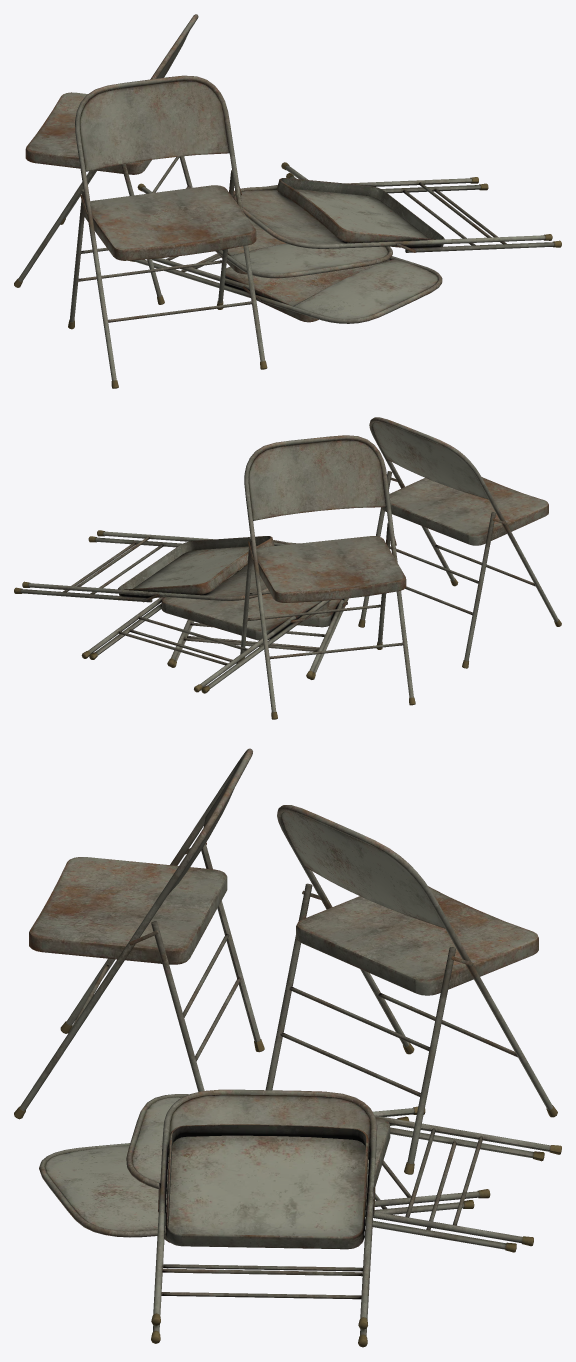
Rendered from steel_chair.glb.
3 views of the same model, one above another, from view 1: azimuth 30°, elevation 25°; view 2: azimuth 150°, elevation 25°; view 3: azimuth 270°, elevation 25° (orthographic). The views are drawn at different scales.
Parts seen in each view (by area): view 1: Seat_low (×2), Folded_Back_low (×3), Back_low, Folded_Seat_low (×3), Folded_Legs_Front_low (×3), Legs_Front_low (×2), Folded_Legs_Back_low (×2), Legs_Back_low (×2), Support_Bars_low, Folded_Support_Bars_Back_low; view 2: Seat_low (×2), Back_low (×2), Folded_Seat_low (×3), Legs_Front_low (×2), Folded_Legs_Front_low (×3), Folded_Legs_Back_low (×3), Legs_Back_low (×2), Folded_Support_Bars_Back_low (×3), Support_Bars_low (×2), Folded_Back_low; view 3: Seat_low (×2), Folded_Seat_low, Folded_Back_low (×3), Folded_Legs_Front_low (×3), Legs_Front_low (×2), Back_low, Legs_Back_low (×2), Folded_Legs_Back_low (×2), Support_Bars_low (×2), Folded_Support_Bars_Back_low (×2), Folded_Support_Bar_Front_low.
Part boxes in pixels (bbox=[...]): Seat_low (×2): bbox=[25, 92, 256, 260]; Folded_Back_low (×3): bbox=[230, 189, 437, 319]; Back_low: bbox=[80, 80, 229, 171]; Folded_Seat_low (×3): bbox=[217, 178, 444, 322]; Folded_Legs_Front_low (×3): bbox=[128, 173, 552, 323]; Legs_Front_low (×2): bbox=[14, 14, 267, 388]; Folded_Legs_Back_low (×2): bbox=[152, 183, 561, 290]; Legs_Back_low (×2): bbox=[68, 156, 234, 329]; Support_Bars_low: bbox=[78, 247, 252, 322]; Folded_Support_Bars_Back_low: bbox=[403, 188, 506, 245]; Seat_low (×2): bbox=[252, 477, 548, 602]; Back_low (×2): bbox=[248, 422, 488, 520]; Folded_Seat_low (×3): bbox=[118, 536, 343, 640]; Legs_Front_low (×2): bbox=[244, 417, 561, 719]; Folded_Legs_Front_low (×3): bbox=[22, 530, 348, 693]; Folded_Legs_Back_low (×3): bbox=[14, 536, 344, 692]; Legs_Back_low (×2): bbox=[239, 471, 495, 668]; Folded_Support_Bars_Back_low (×3): bbox=[63, 542, 325, 665]; Support_Bars_low (×2): bbox=[247, 544, 535, 659]; Folded_Back_low: bbox=[200, 562, 266, 596]; Seat_low (×2): bbox=[29, 857, 538, 995]; Folded_Seat_low: bbox=[165, 1124, 368, 1249]; Folded_Back_low (×3): bbox=[45, 1094, 370, 1231]; Folded_Legs_Front_low (×3): bbox=[39, 1089, 544, 1329]; Legs_Front_low (×2): bbox=[14, 748, 557, 1119]; Back_low: bbox=[281, 811, 444, 928]; Legs_Back_low (×2): bbox=[151, 843, 456, 1174]; Folded_Legs_Back_low (×2): bbox=[365, 1106, 561, 1246]; Support_Bars_low (×2): bbox=[68, 933, 517, 1096]; Folded_Support_Bars_Back_low (×2): bbox=[161, 1128, 482, 1299]; Folded_Support_Bar_Front_low: bbox=[161, 1268, 363, 1276].
Size of the model in its own units: 167 by 78.33 by 122.
2 materials, 2 textured.
